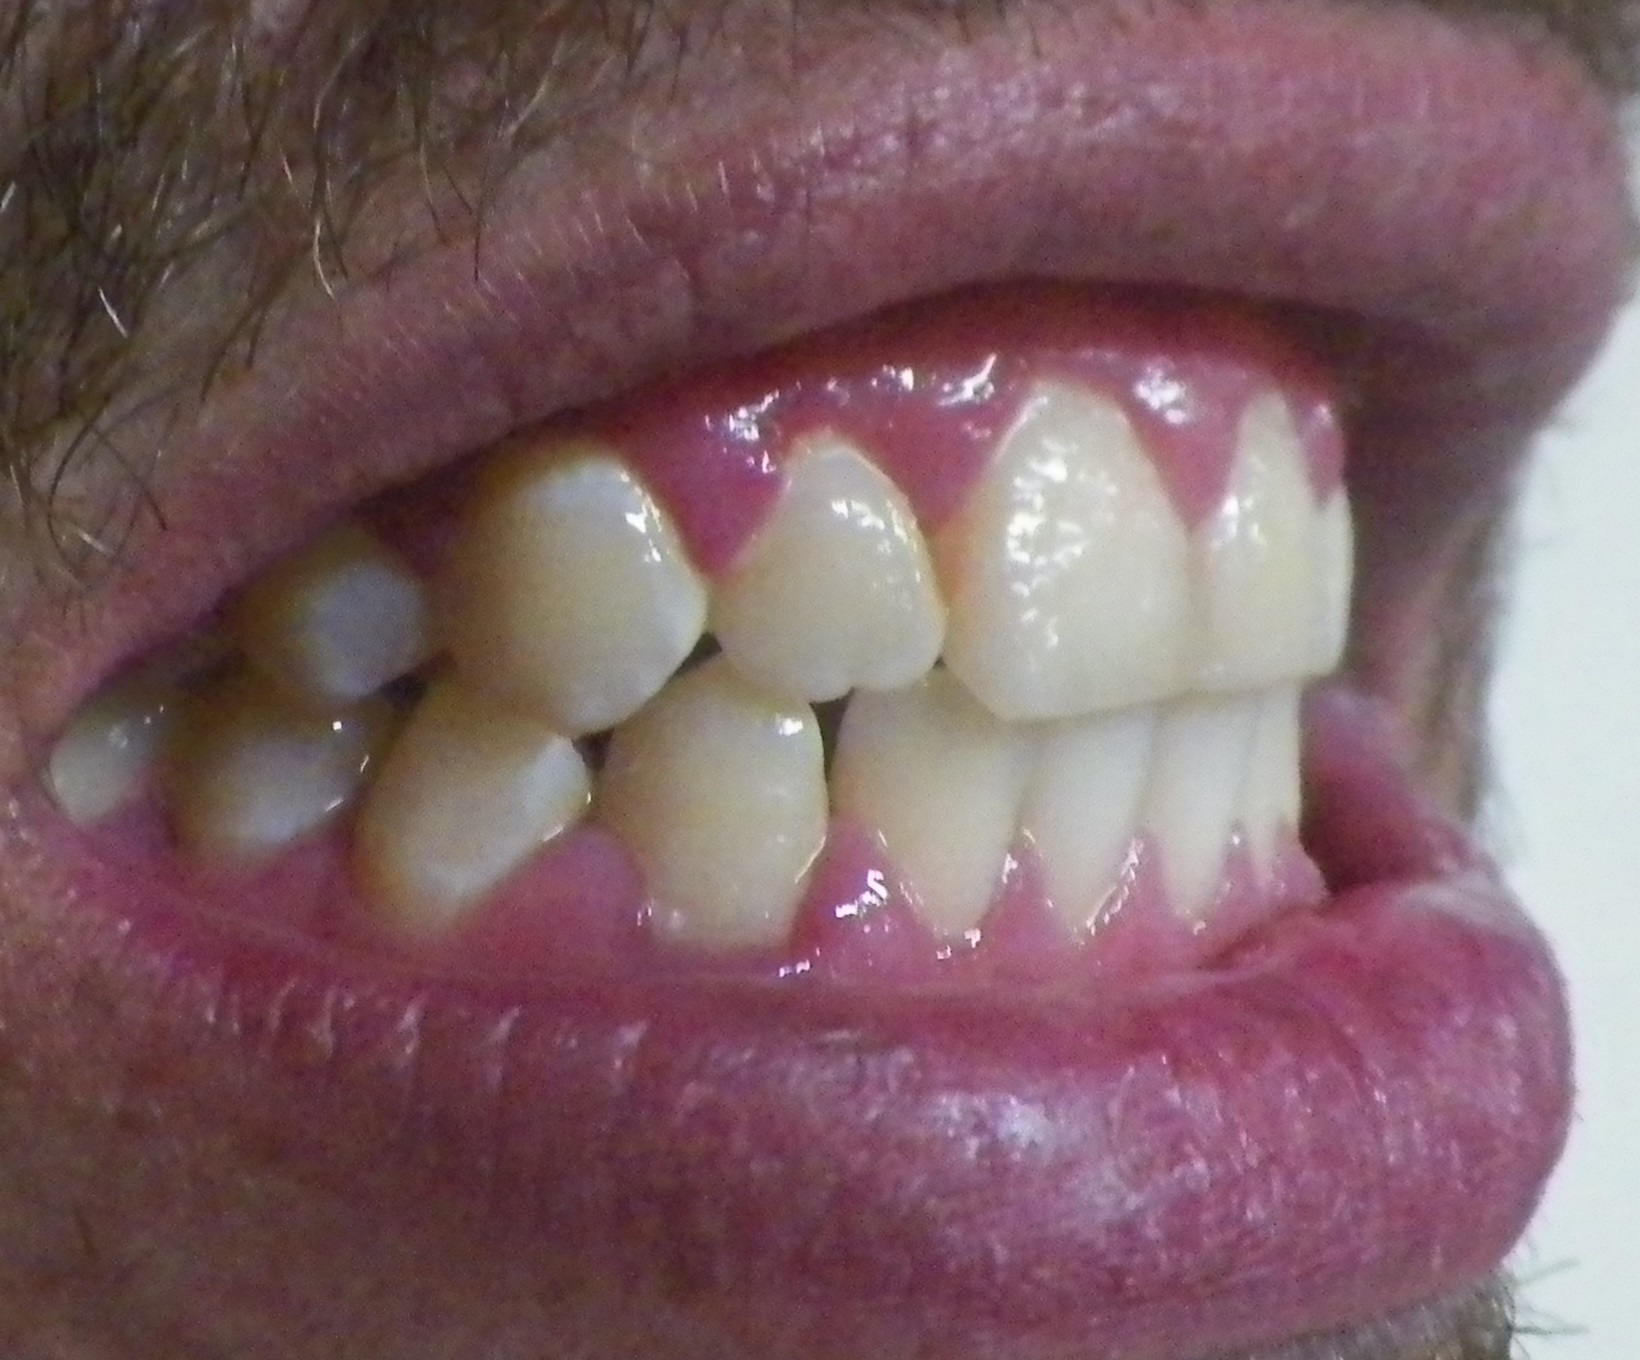boca: (56, 382, 1359, 928)
